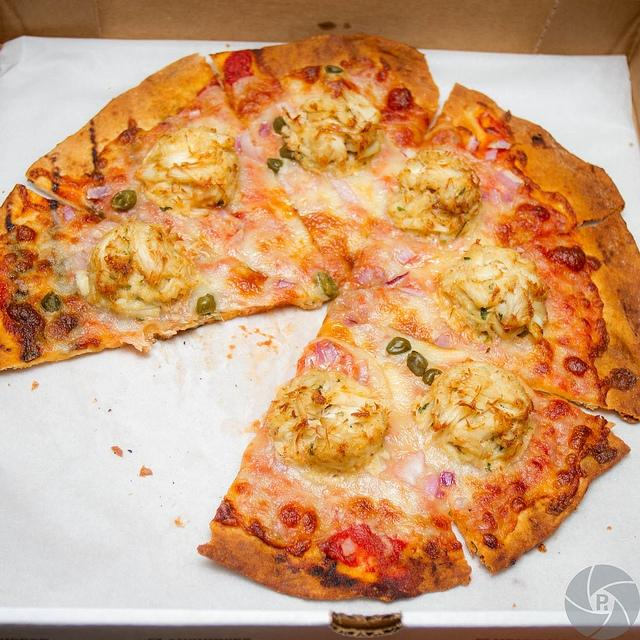onion: (392, 448, 428, 488), (306, 342, 340, 372), (240, 128, 264, 164), (496, 172, 522, 190), (86, 184, 114, 199), (355, 358, 369, 386), (395, 250, 418, 264), (335, 314, 361, 326), (341, 536, 356, 556), (487, 138, 512, 150), (434, 334, 454, 348), (60, 206, 76, 223), (438, 471, 454, 487), (74, 252, 88, 270), (530, 313, 544, 330), (488, 188, 501, 205), (468, 135, 481, 152), (400, 147, 418, 159), (276, 280, 296, 289), (485, 149, 498, 162), (259, 123, 271, 137), (190, 110, 200, 116)
